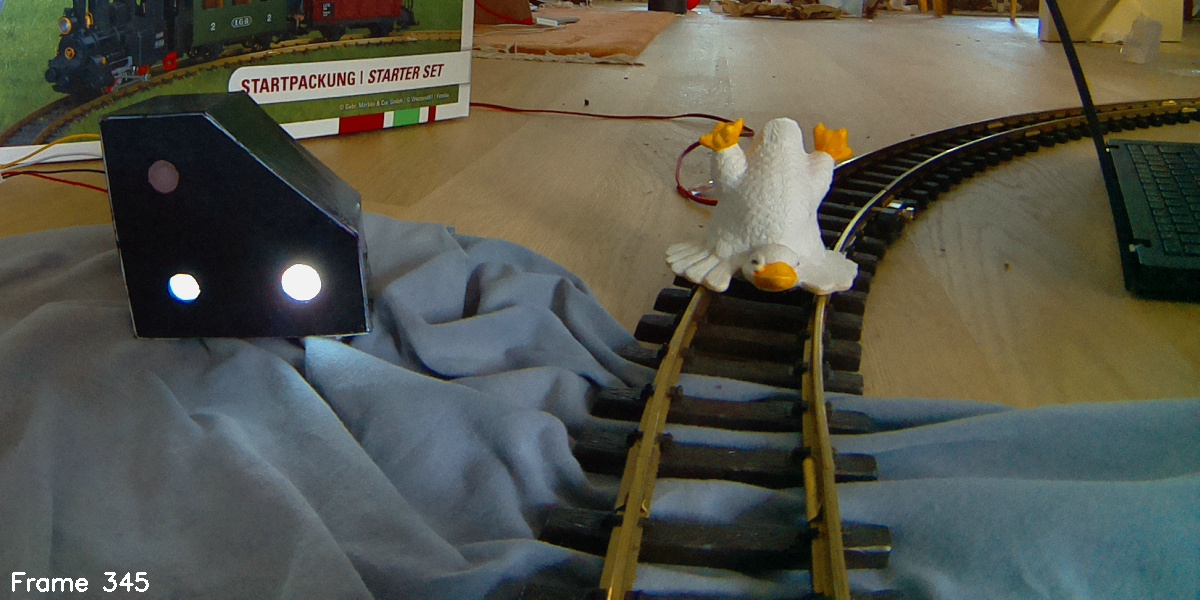Ente: (663, 116, 864, 305)
Halt: (102, 96, 371, 334)
